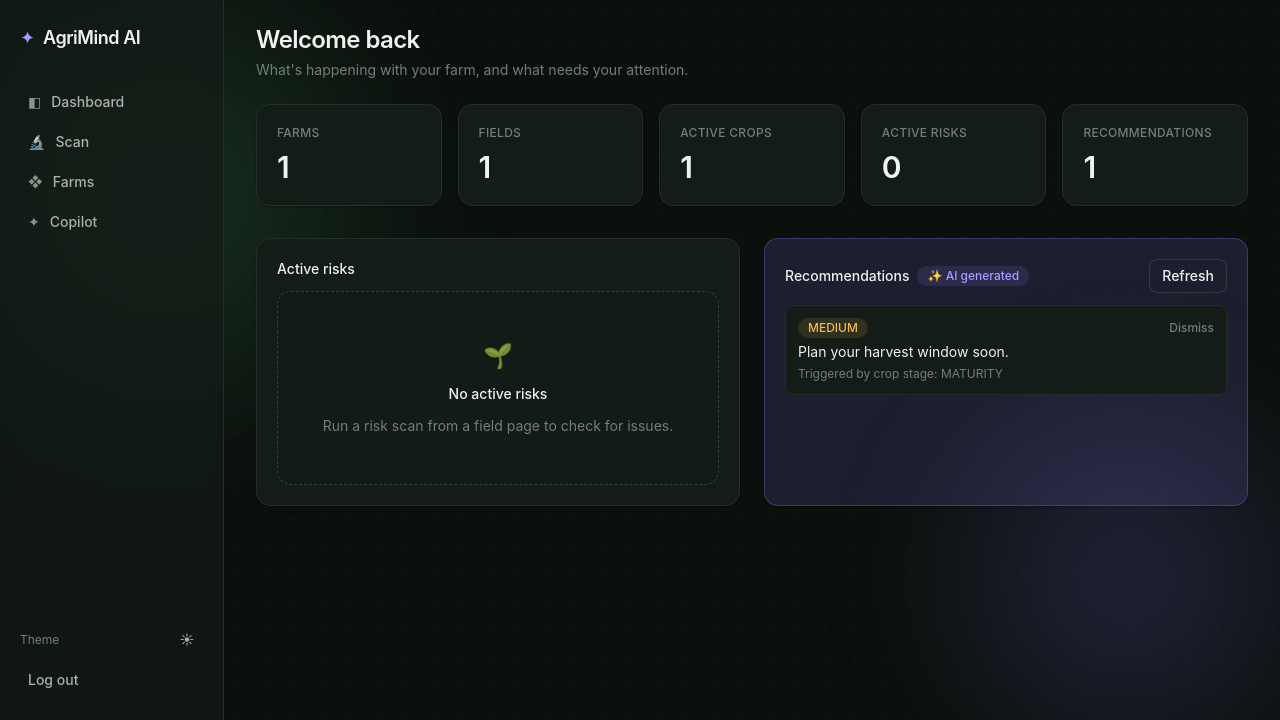
it: DashboardPage › dismisses a recommendation and removes it from the list
The width and height of the screenshot is (1280, 720).
Expected: the text "Plan your harvest window soon." is shown, [798, 343, 1009, 360]
Click the button "Dismiss". click: {"x": 1192, "y": 328}
box: [1169, 320, 1214, 336]
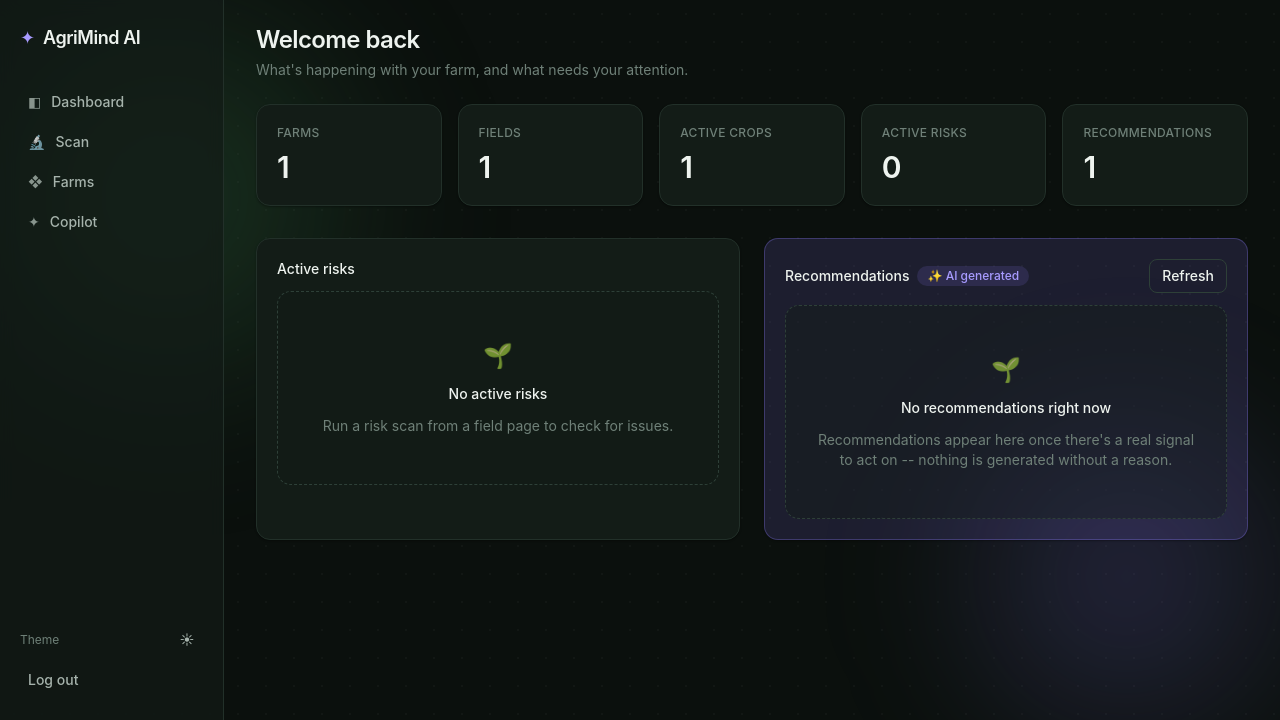
Now the text "Plan your harvest window soon" is gone
